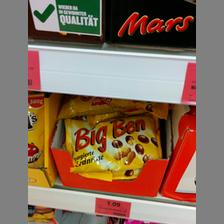Schokolade: (63, 117, 159, 172)
